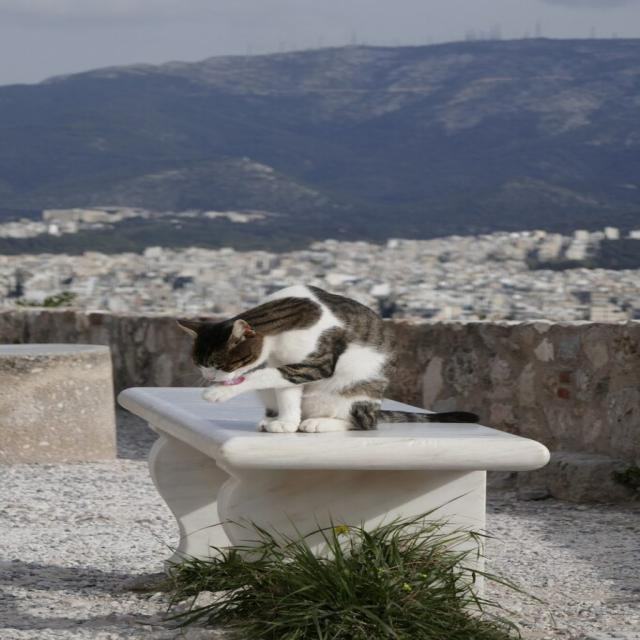cat: (178, 285, 479, 432)
